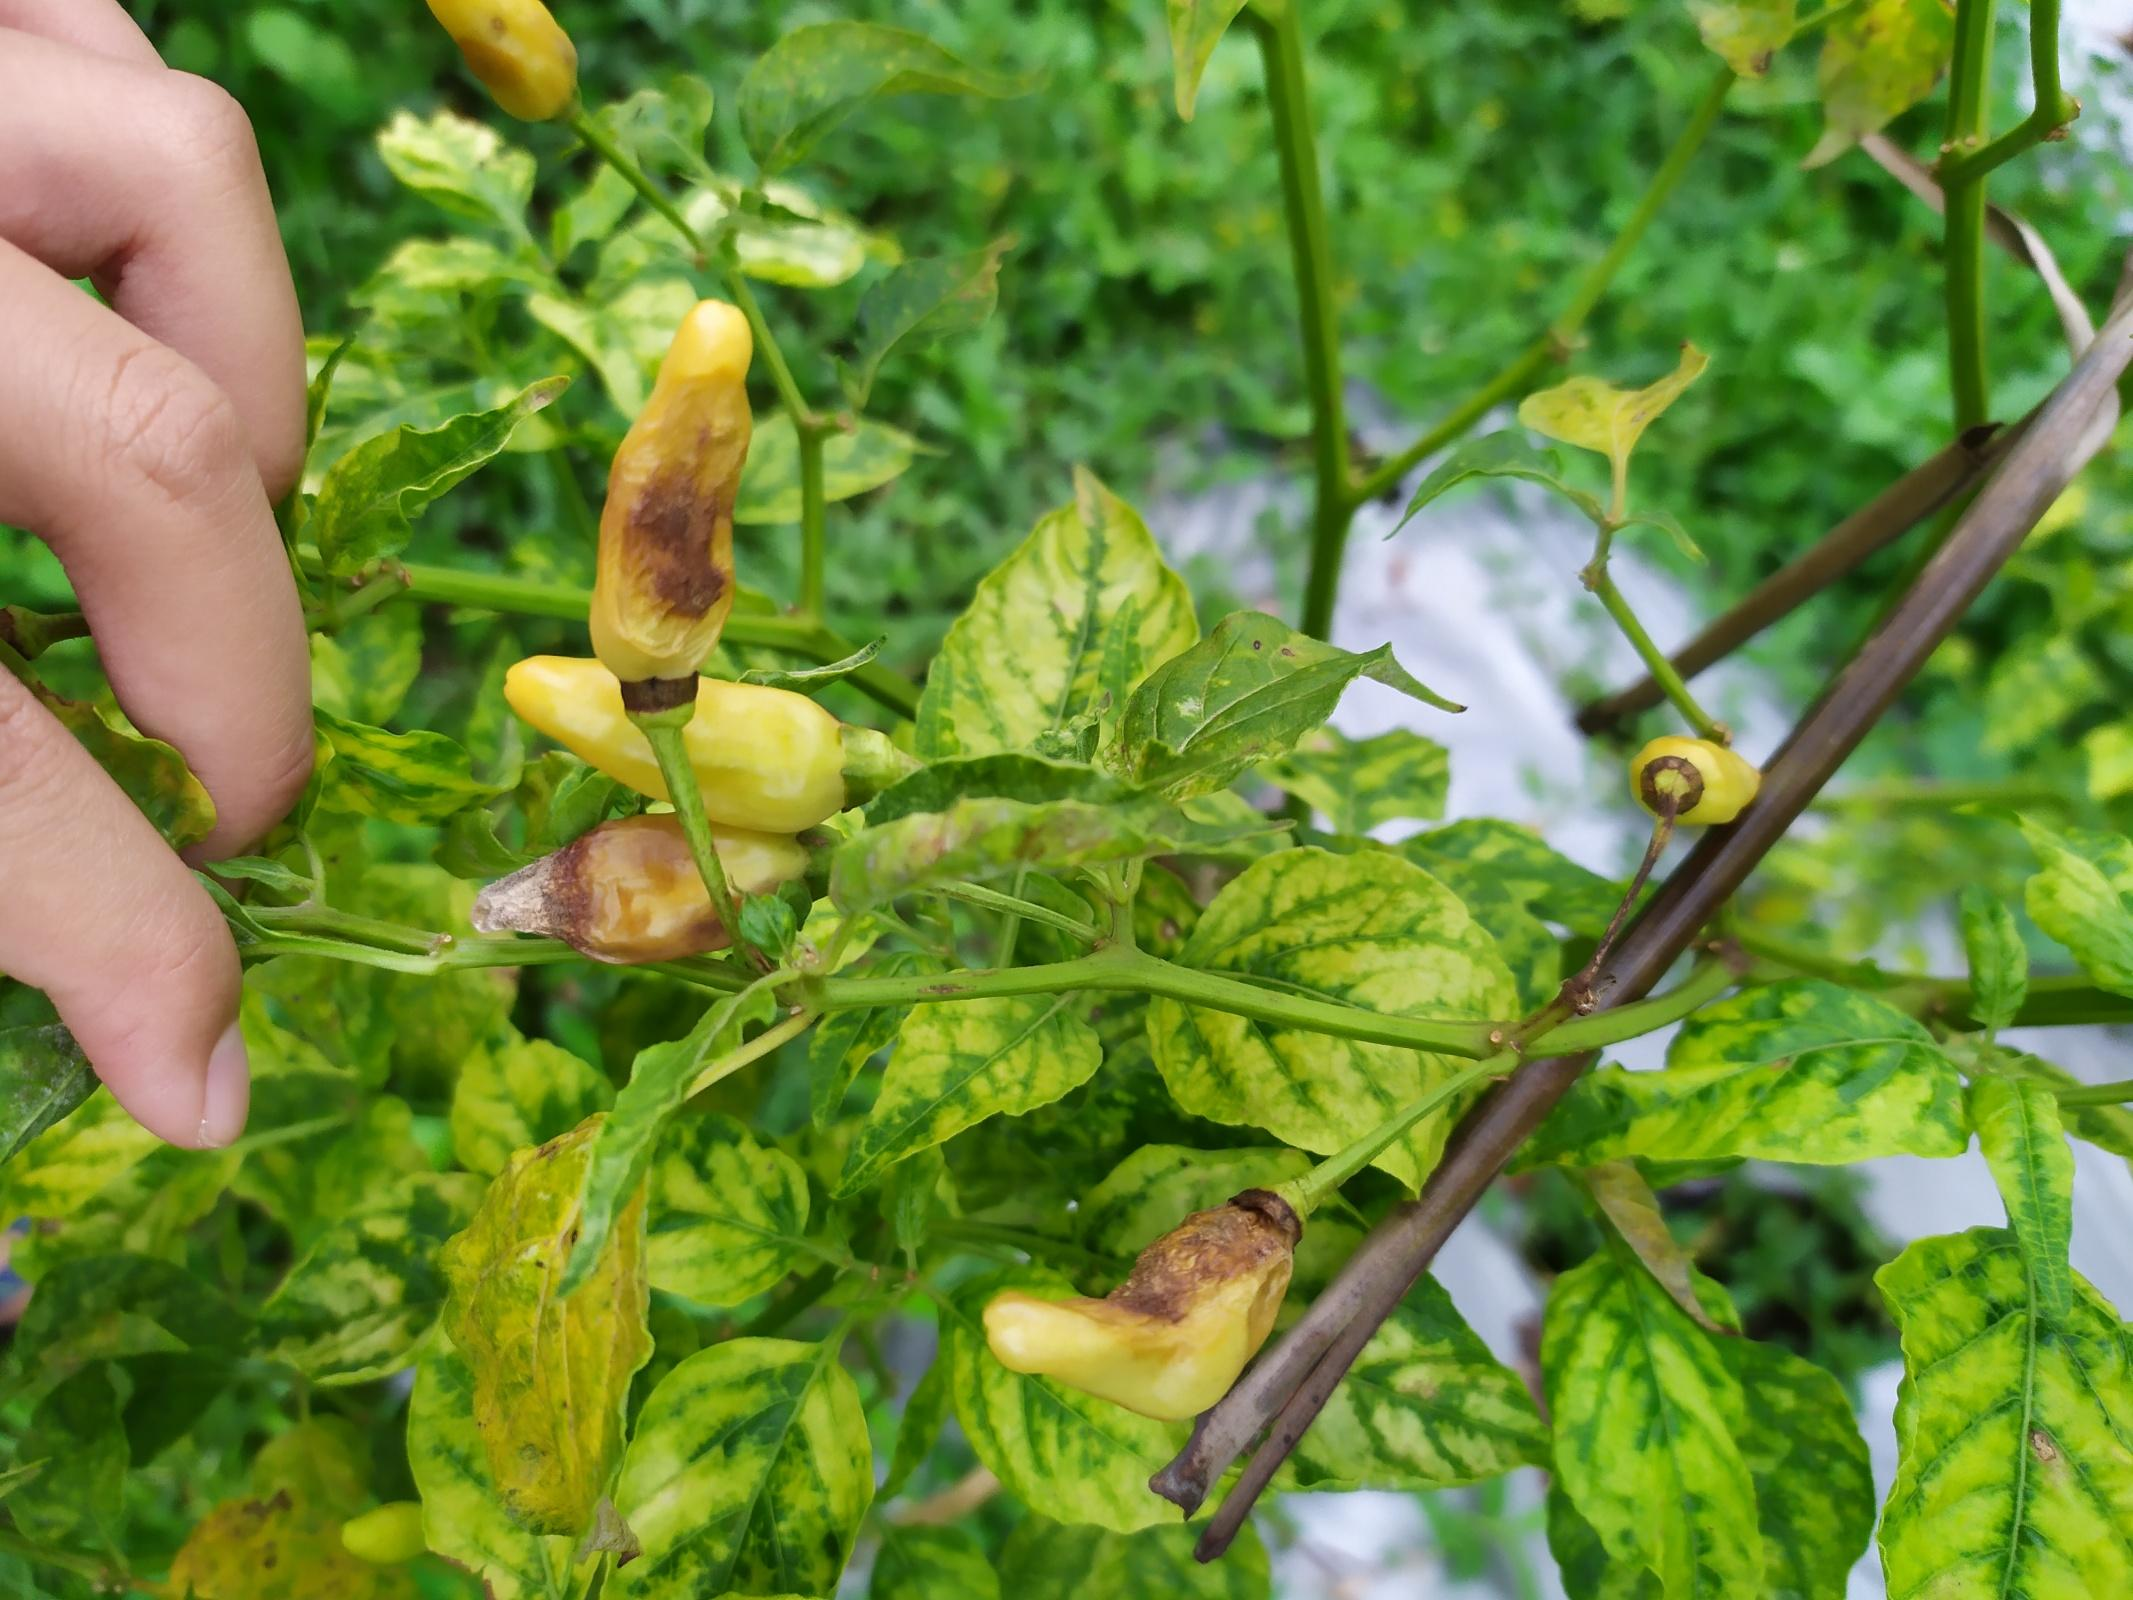antraknosa: (980, 1193, 1298, 1422), (588, 299, 755, 694), (467, 815, 814, 968)
cabai_normal: (506, 655, 849, 835)
